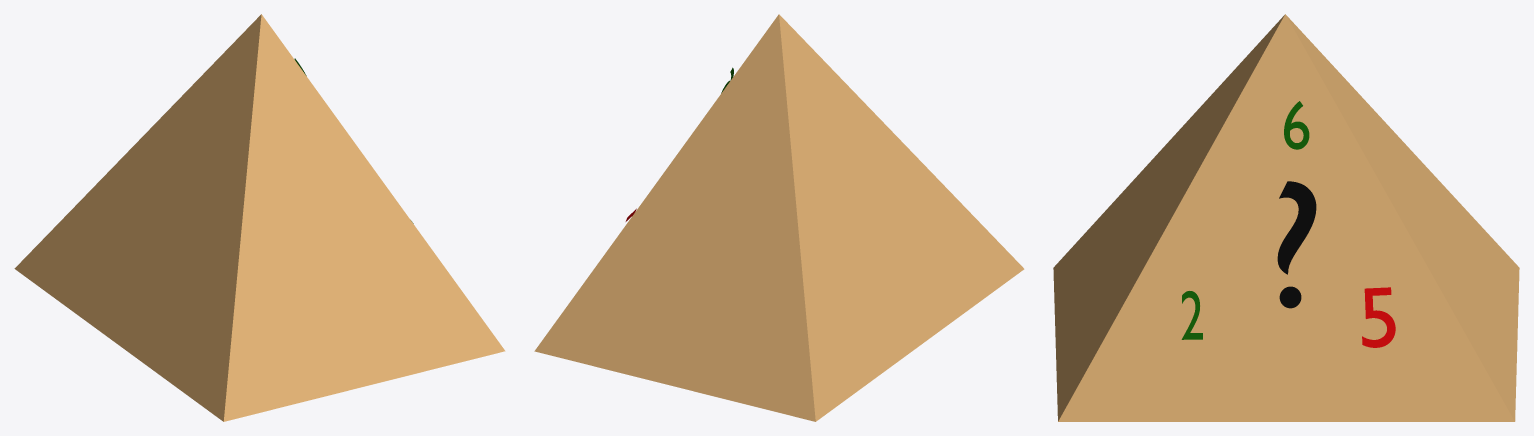
The picture shows the model from 3 angles, left to right: view 1: azimuth 30°, elevation 25°; view 2: azimuth 150°, elevation 25°; view 3: azimuth 270°, elevation 25°; orthographic projection. The views are drawn at different scales.
Visible parts, largest first — view 1: Cube; view 2: Cube; view 3: Cube, Text, Text.003, Text.001, Text.002.
Boxes of the visible parts, x1,y1,x2,y2 form: Cube: (14, 14, 505, 421); Cube: (534, 14, 1024, 421); Cube: (1053, 14, 1519, 421); Text: (1277, 181, 1316, 308); Text.003: (1362, 287, 1395, 347); Text.001: (1284, 101, 1309, 149); Text.002: (1181, 291, 1202, 339).
Size of the model in its own units: 200 by 200 by 255.
